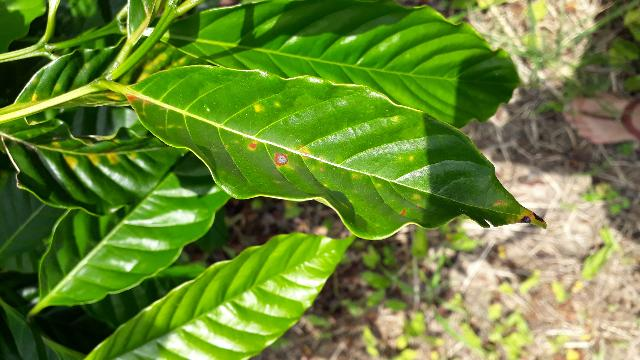red_spider_mite: (120, 64, 570, 248)
